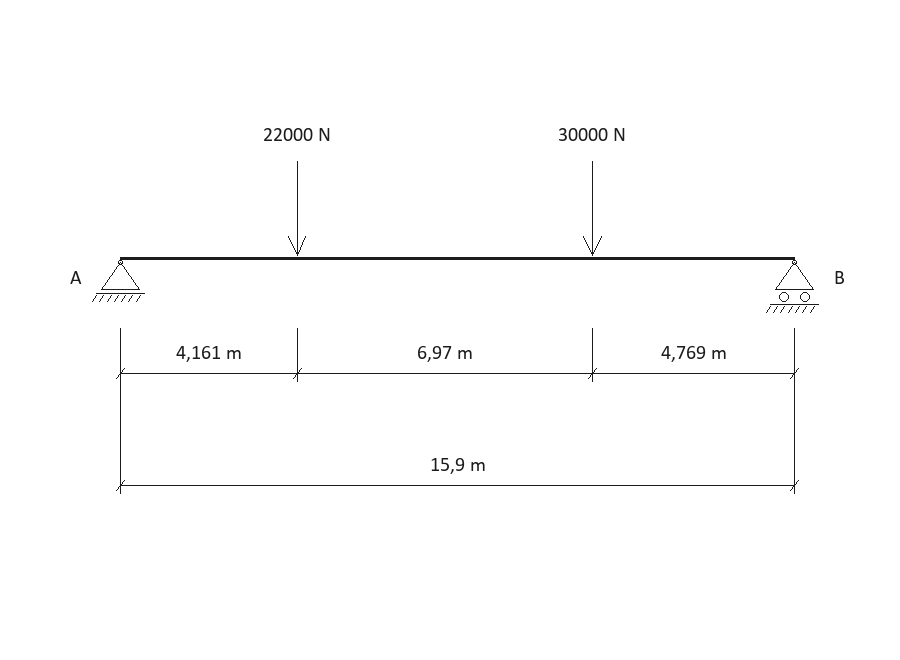pin_support: (92, 260, 145, 302)
point_load: (583, 161, 602, 256), (288, 161, 306, 256)
roller_support: (766, 260, 819, 313)
